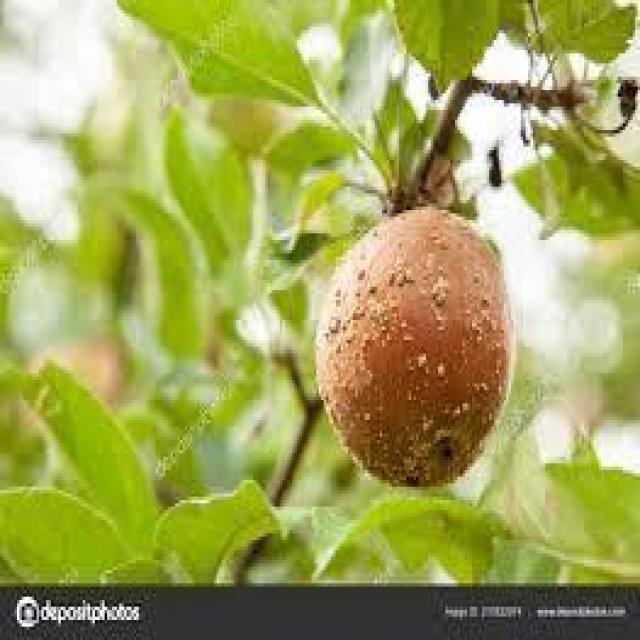maca: (314, 203, 513, 487)
